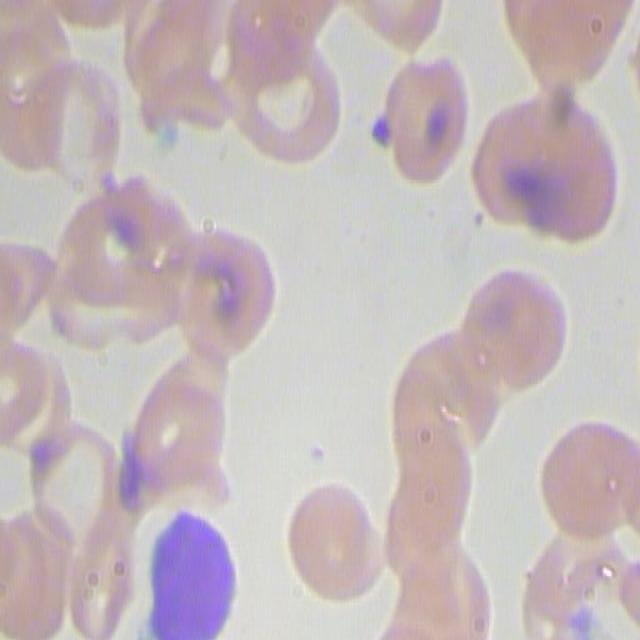RBC: (48, 172, 195, 353), (471, 84, 625, 245), (220, 0, 344, 169), (114, 0, 256, 131), (107, 362, 223, 516), (457, 259, 568, 405), (161, 222, 275, 362), (385, 331, 497, 472), (6, 60, 123, 190), (518, 528, 638, 640), (536, 421, 636, 547), (374, 58, 471, 184), (24, 422, 116, 554), (285, 479, 383, 602), (510, 2, 627, 104), (59, 512, 140, 638), (0, 338, 66, 458), (330, 0, 451, 47)
WBC: (152, 527, 243, 640)
platelets: (369, 116, 388, 145)
